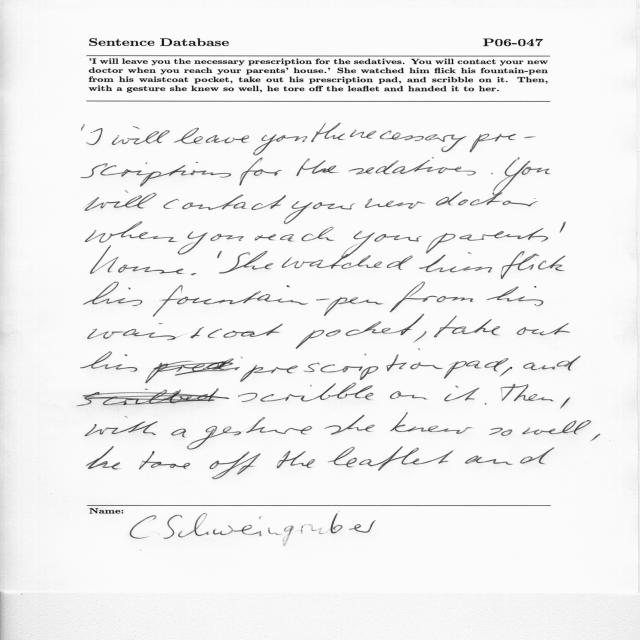word: (153, 285, 384, 317), (240, 353, 443, 382), (426, 222, 566, 254), (296, 314, 424, 349), (187, 417, 312, 449), (470, 158, 550, 206), (82, 162, 232, 187), (282, 243, 413, 270), (88, 323, 283, 340), (328, 446, 453, 471), (418, 316, 500, 350), (77, 388, 229, 406), (91, 245, 184, 274), (238, 383, 374, 402), (350, 130, 466, 152), (145, 357, 243, 383), (390, 282, 473, 312), (349, 158, 476, 176), (163, 194, 286, 210), (85, 222, 178, 243), (501, 251, 565, 279), (365, 192, 468, 209), (390, 413, 472, 434), (284, 201, 355, 224), (465, 447, 555, 465), (178, 231, 244, 255), (419, 252, 492, 273), (85, 416, 158, 436), (209, 452, 261, 480), (85, 191, 157, 211), (84, 282, 142, 306), (444, 358, 509, 378), (219, 251, 273, 274), (173, 128, 249, 144), (239, 158, 282, 186), (255, 227, 335, 242), (470, 134, 535, 152), (487, 286, 544, 306), (81, 352, 138, 372), (254, 135, 308, 156), (112, 126, 170, 145), (324, 415, 375, 435), (522, 420, 591, 434), (139, 451, 190, 469), (501, 384, 554, 401), (523, 356, 581, 371), (354, 231, 422, 243), (87, 447, 121, 470), (296, 158, 338, 176), (311, 123, 345, 142), (277, 451, 315, 468), (517, 323, 570, 335), (444, 386, 479, 401), (390, 391, 428, 400), (503, 198, 538, 207), (86, 128, 102, 145), (489, 428, 512, 436), (414, 331, 427, 343), (171, 429, 186, 438), (561, 397, 571, 408), (500, 367, 512, 376), (591, 434, 600, 441), (217, 251, 222, 258), (81, 124, 85, 131), (191, 273, 197, 275), (491, 173, 493, 174), (485, 403, 487, 404)
